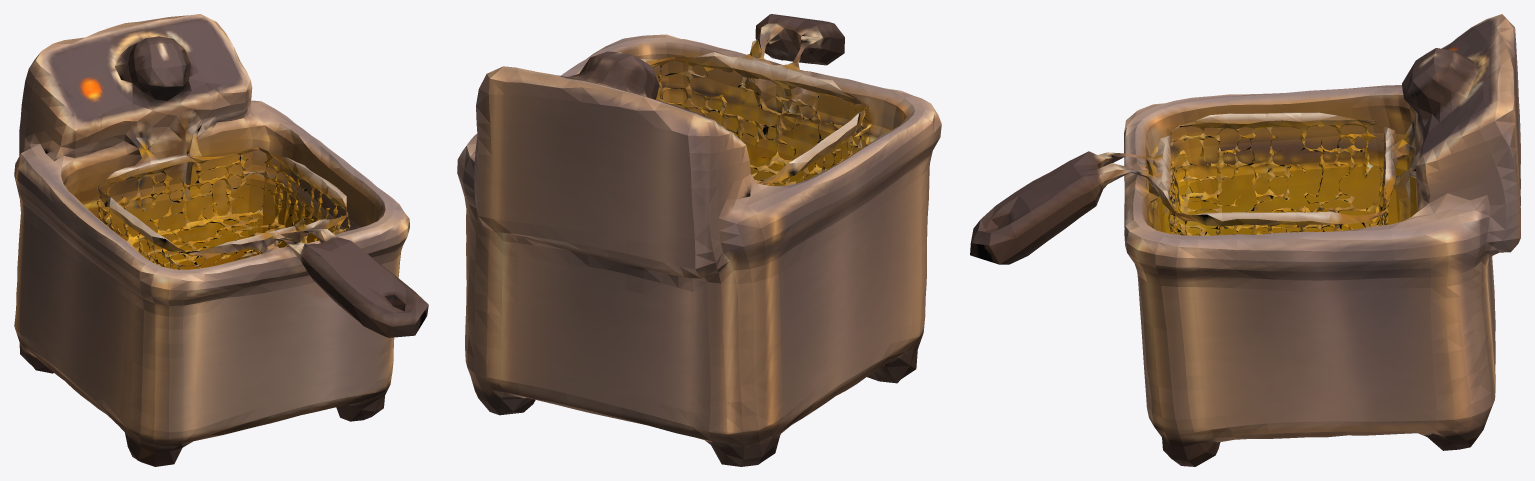
File: FryerV13AI.fbx
3 renders of one model, left to right at view 1: azimuth 30°, elevation 25°; view 2: azimuth 150°, elevation 25°; view 3: azimuth 270°, elevation 25°, orthographic. The views are drawn at different scales.
Parts seen in each view (by area): view 1: retopology; view 2: retopology; view 3: retopology.
Boxes of the visible parts, x1,y1,x2,y2 form: retopology: [14, 14, 428, 466]; retopology: [457, 14, 941, 466]; retopology: [970, 14, 1520, 466].
Size of the model in its own units: 0.6373 by 0.7189 by 1.
